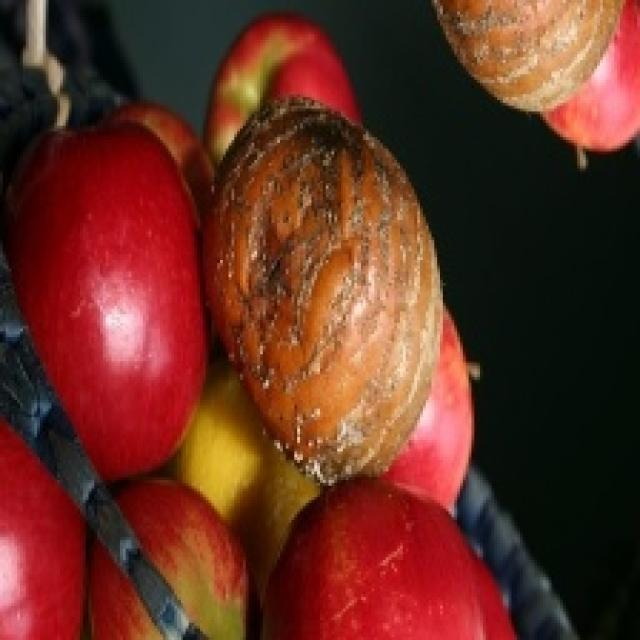100-_ripeness: (26, 132, 190, 454), (312, 513, 507, 640), (92, 496, 249, 640)
rotten_apple: (206, 104, 444, 482), (432, 0, 624, 109)
